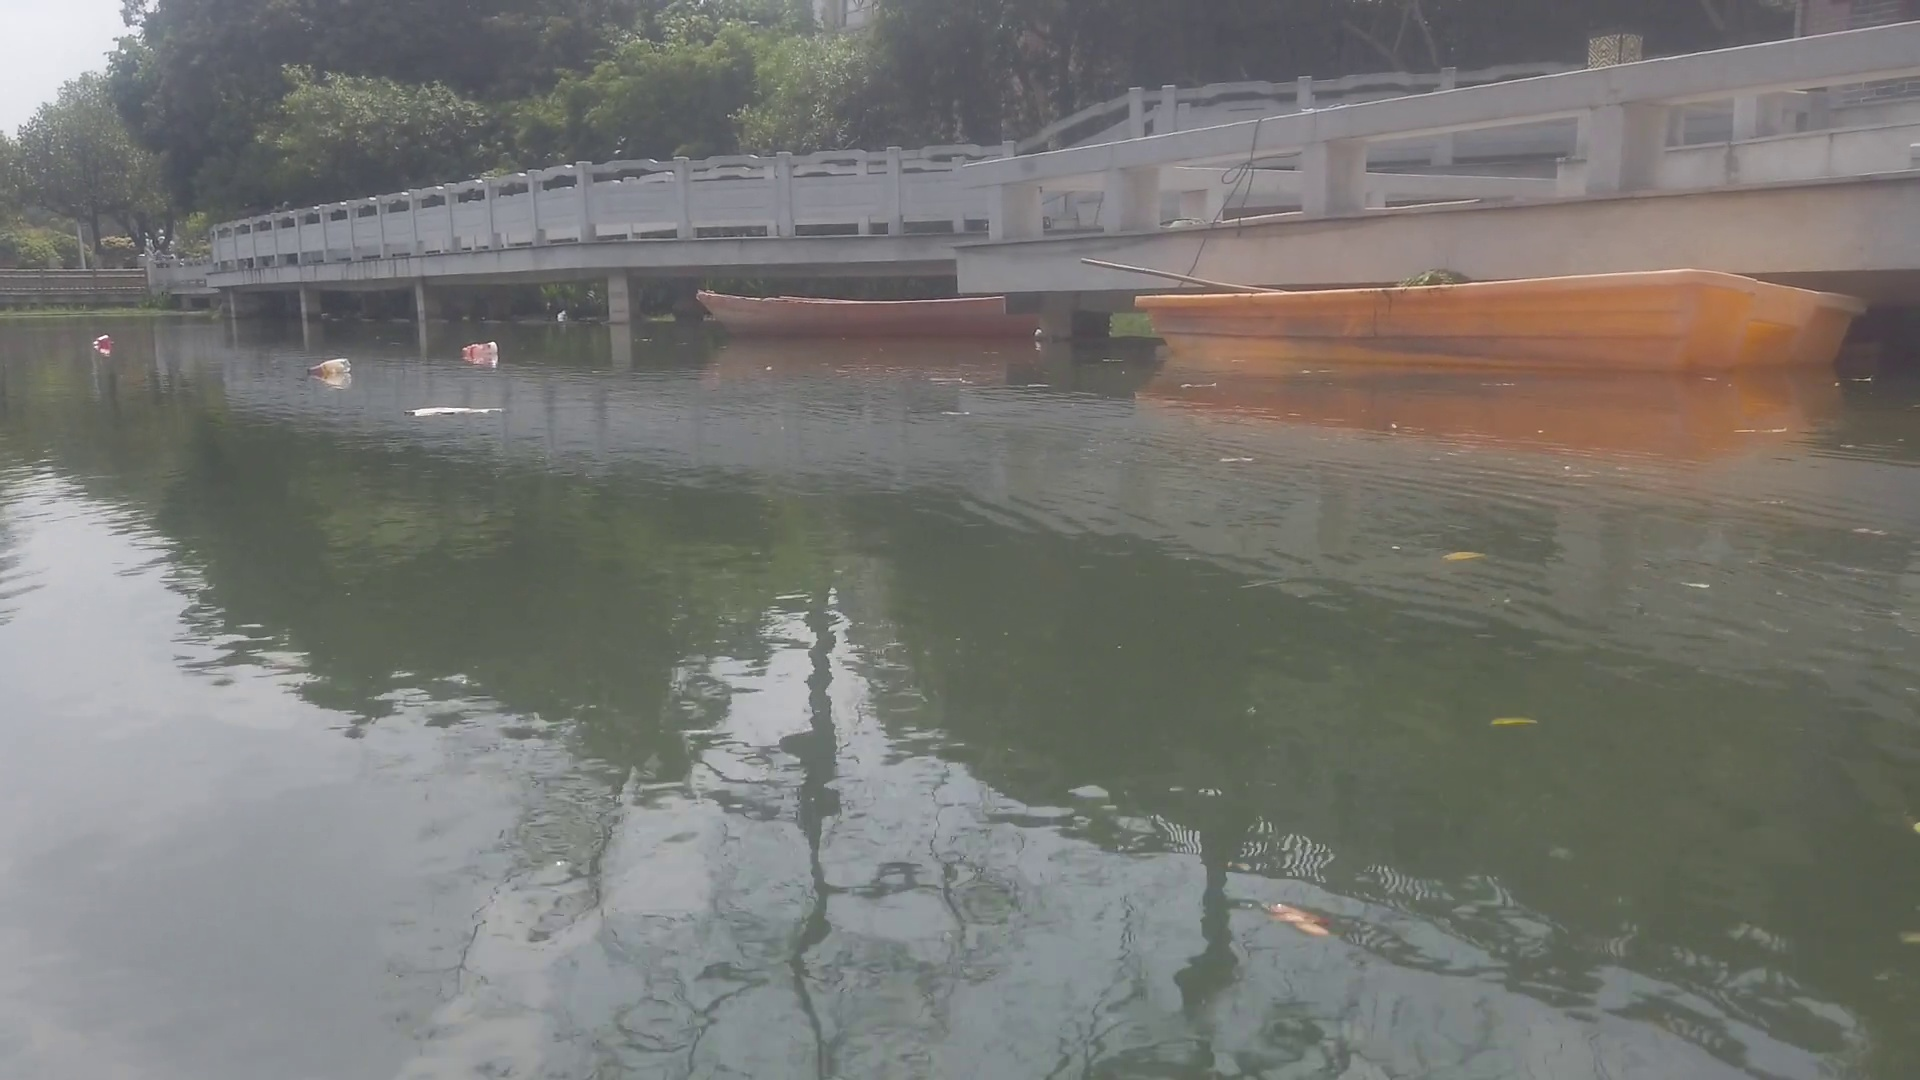bottle: (305, 357, 349, 376), (454, 340, 497, 357), (91, 332, 115, 351)
paper: (406, 401, 513, 419)
